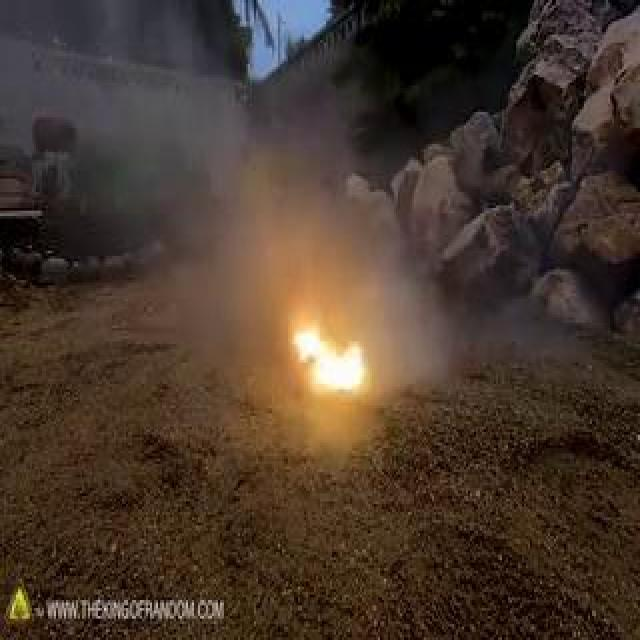Fire: (82, 82, 329, 362)
